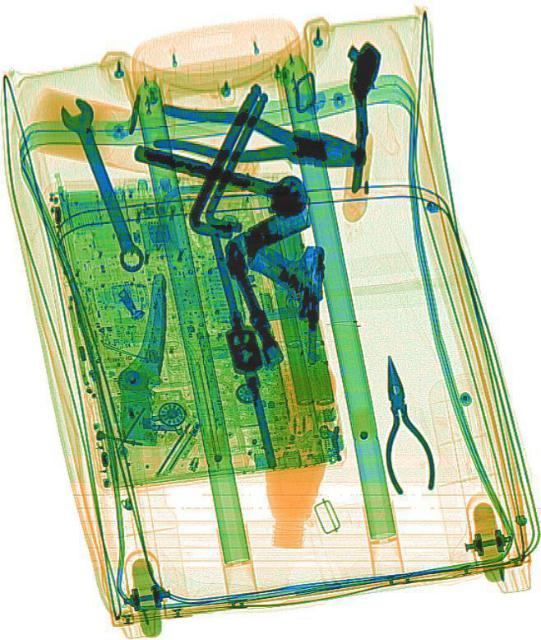Gun: (236, 236, 325, 364)
Pliers: (149, 95, 368, 185), (366, 349, 436, 496)
Wrench: (55, 92, 151, 278)
